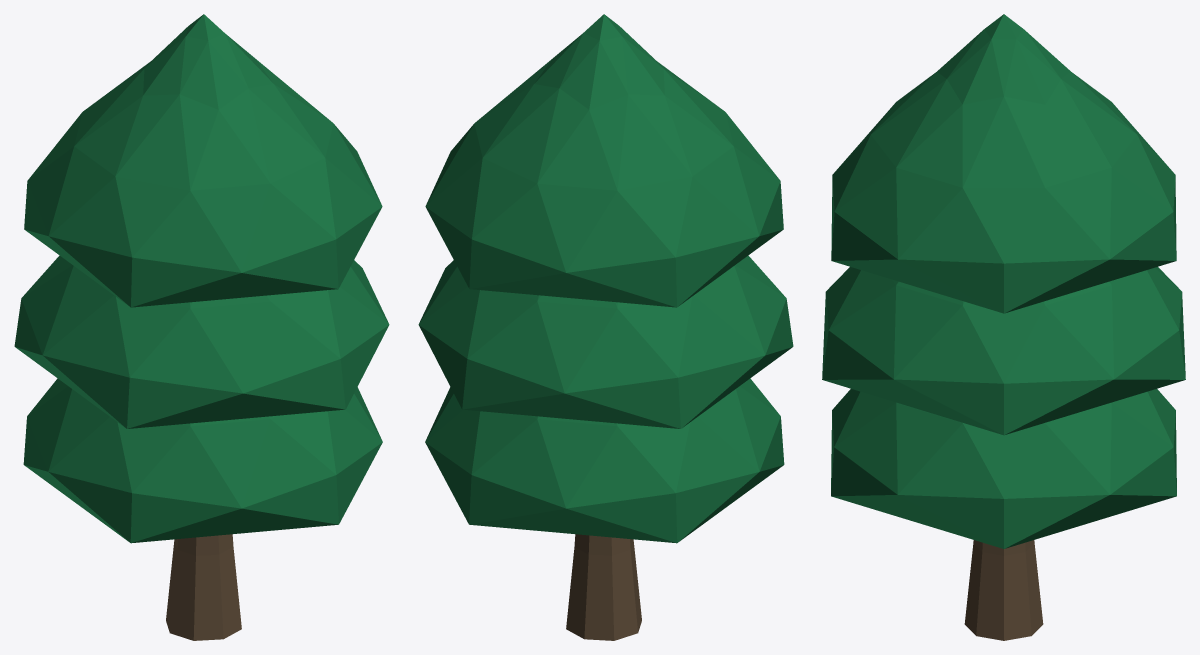
File: pinetree.fbx
3 renders of one model, left to right at view 1: azimuth 30°, elevation 25°; view 2: azimuth 150°, elevation 25°; view 3: azimuth 270°, elevation 25°, orthographic.
Visible parts, largest first — view 1: Cylinder.001; view 2: Cylinder.001; view 3: Cylinder.001.
Boxes of the visible parts, x1,y1,x2,y2 form: Cylinder.001: (14, 14, 389, 640); Cylinder.001: (418, 14, 793, 640); Cylinder.001: (822, 14, 1185, 640).
Bounding box in the file's own units: 695 × 1245 × 673.
